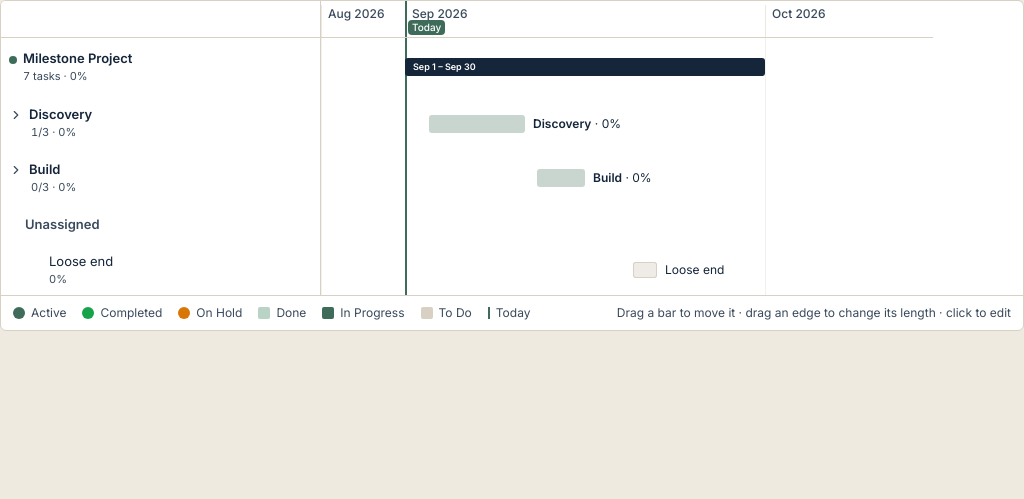
Scenario: TimelineGantt milestones › expanding a milestone reveals its tasks nested a level deeper
Click the button "Discovery" at (61, 114), box [9,106,300,124]
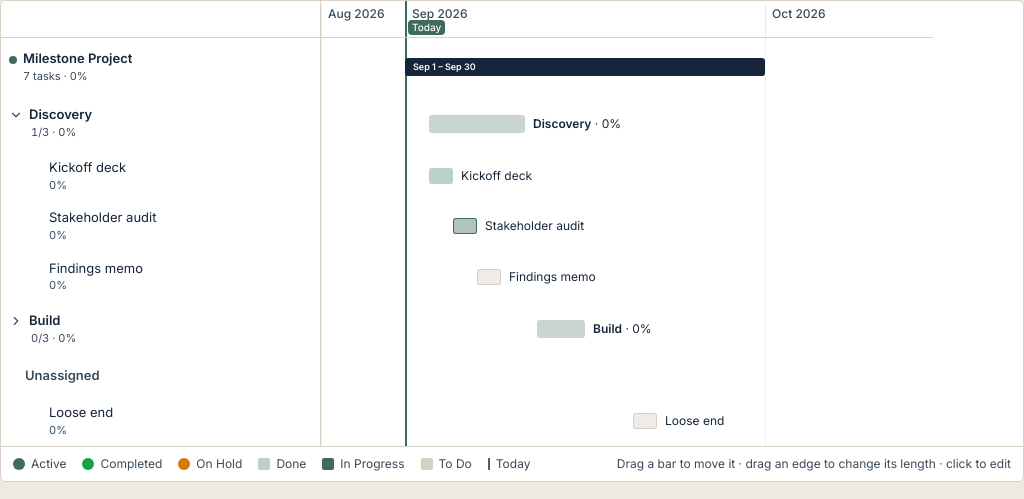
Check: the button "Discovery" is expanded
Check: the button named "Kickoff deck" is shown, box [429,168,453,184]
Check: the button named "Stakeholder audit" is shown, box [453,218,477,234]
Note: Collapsing again puts them away.
Click the button "Discovery" at (61, 114), box [9,106,300,124]
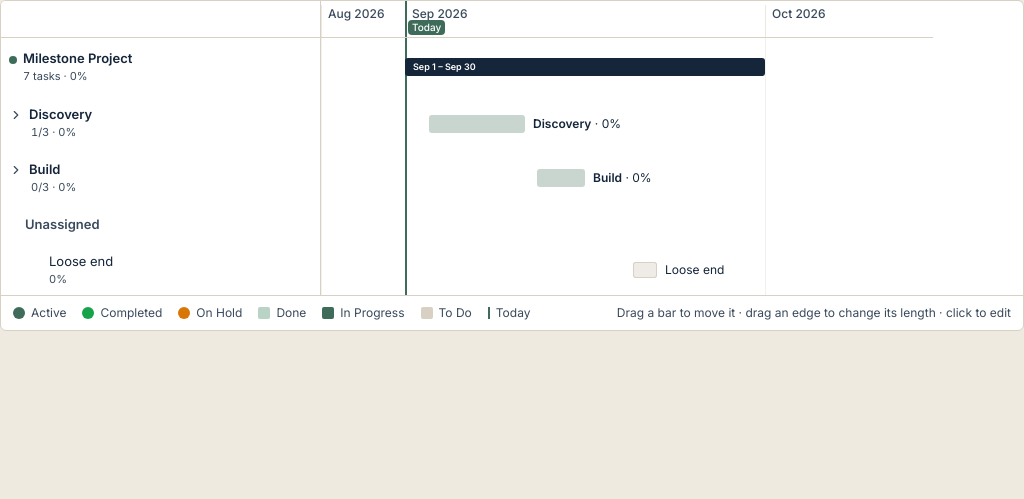
Check: the text "Kickoff deck" is gone
